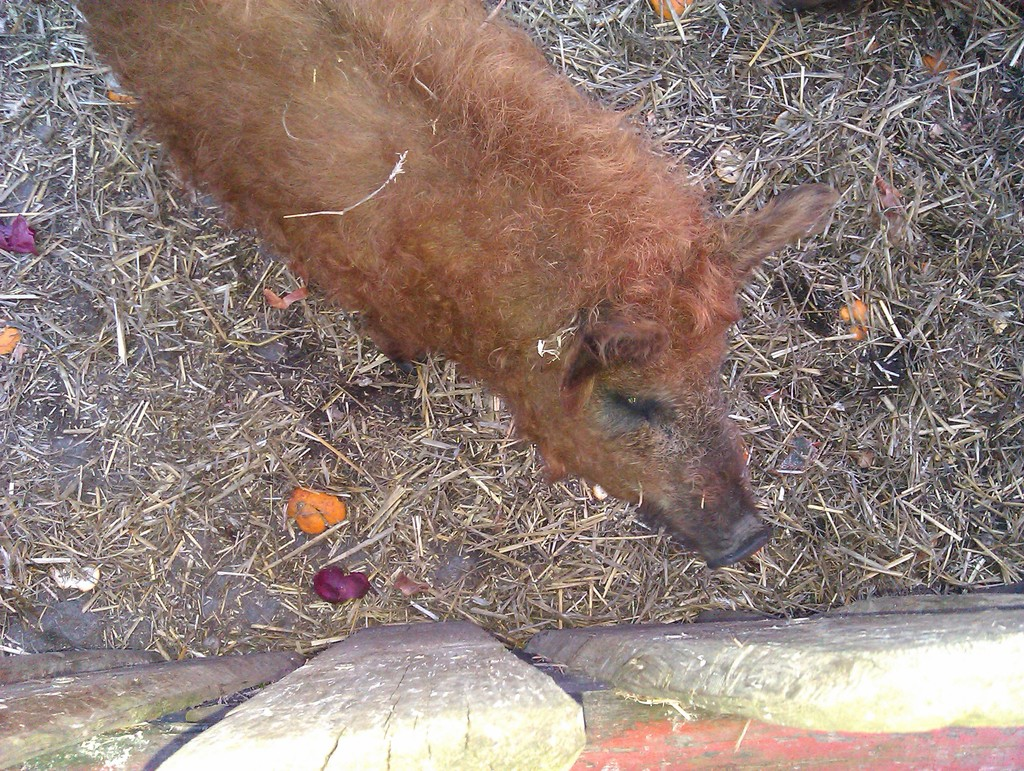Animal: (72, 0, 837, 572)
